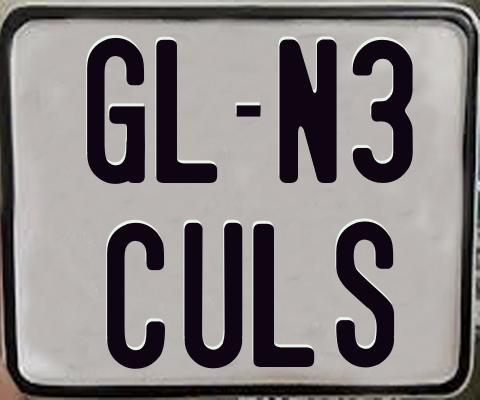3: (351, 38, 412, 182)
C: (106, 223, 167, 373)
G: (86, 37, 147, 184)
L: (154, 37, 218, 182), (252, 222, 314, 365)
N: (276, 39, 338, 183)
S: (335, 218, 398, 371)
U: (184, 223, 244, 375)
